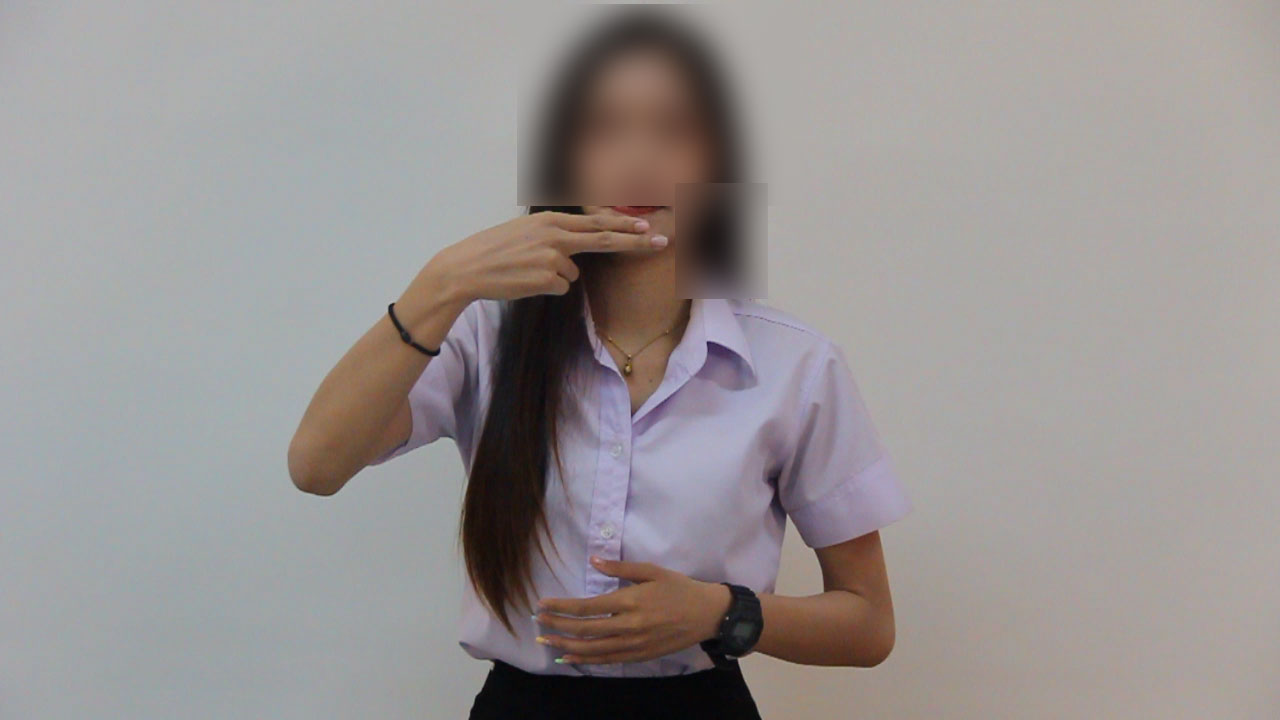hor: (428, 206, 679, 315)
